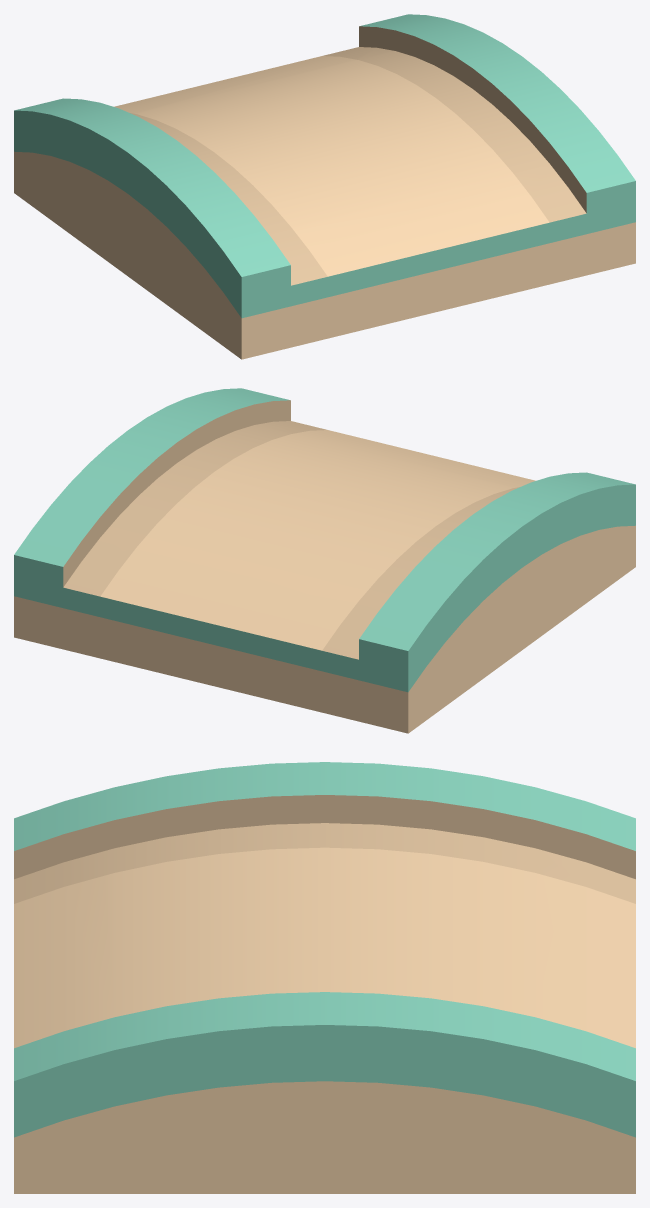
The model's file is tile_bump.glb.
3 views of the same model, one above another, from view 1: azimuth 30°, elevation 25°; view 2: azimuth 150°, elevation 25°; view 3: azimuth 270°, elevation 25° (orthographic). The views are drawn at different scales.
Parts seen in each view (by area): view 1: tile_bump; view 2: tile_bump; view 3: tile_bump.
Boxes of the visible parts, box(x1,y1,x2,y2) form: tile_bump: box(14, 14, 635, 359); tile_bump: box(14, 388, 635, 733); tile_bump: box(14, 762, 635, 1193).
Bounding box in the file's own units: 1 × 0.3 × 1.
